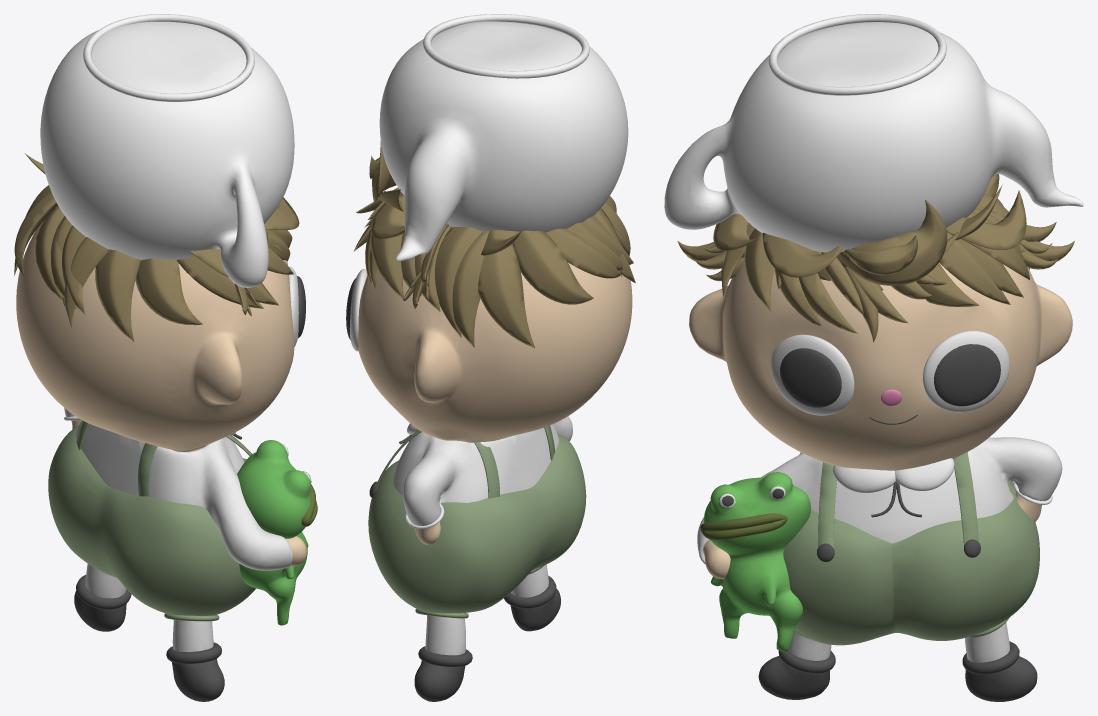
The model's file is greg2b.glb.
The picture shows the model from 3 angles, left to right: view 1: azimuth 30°, elevation 25°; view 2: azimuth 150°, elevation 25°; view 3: azimuth 270°, elevation 25°; orthographic projection. The views are drawn at different scales.
Parts seen in each view (by area): view 1: NurbsPath.001; view 2: NurbsPath.001; view 3: NurbsPath.001.
Boxes of the visible parts, x1=… form: NurbsPath.001: x1=14, y1=14, x2=317, y2=701; NurbsPath.001: x1=346, y1=14, x2=635, y2=701; NurbsPath.001: x1=664, y1=14, x2=1083, y2=701.
Bounding box in the file's own units: 8.87 × 21.64 × 12.54.
